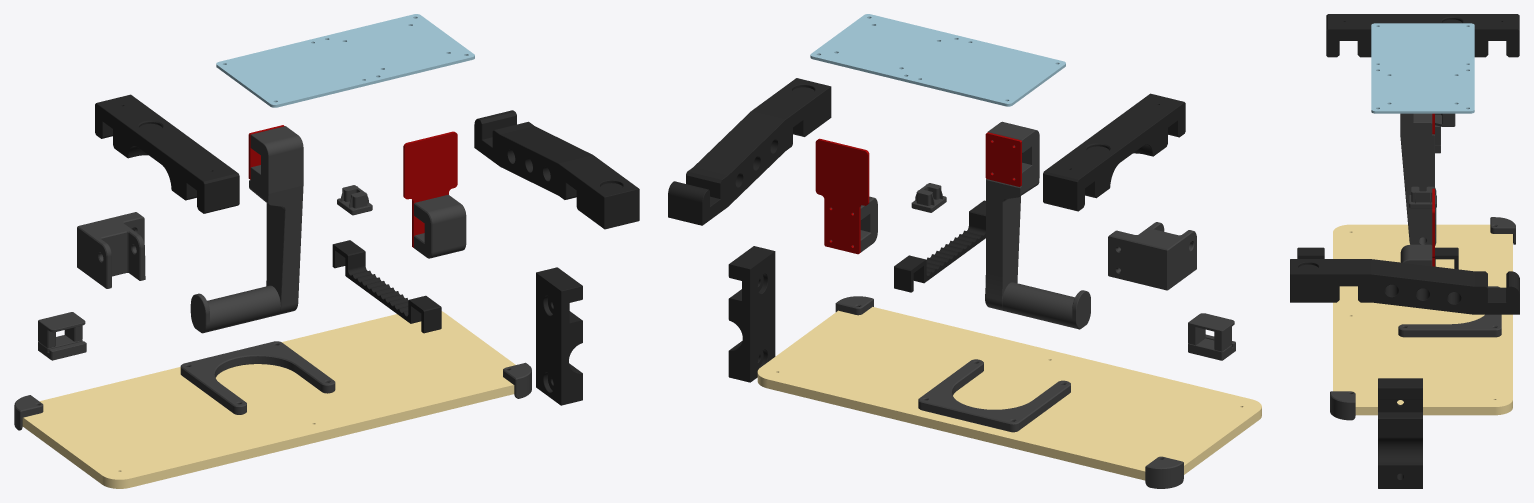
File: ferme_3d.glb
The picture shows the model from 3 angles, left to right: view 1: azimuth 30°, elevation 25°; view 2: azimuth 150°, elevation 25°; view 3: azimuth 270°, elevation 25°; orthographic projection. The views are drawn at different scales.
Parts seen in each view (by area): view 1: SupportClavier, AdaptationDoubleVesa, SupportSidewinder, SupportGenius, Bras, ClampPiedEcran, WallSpacer, RearPlateKeyboard, Etiquette, SupportCable, AxeBobine, ClampEtiquette (+4 smaller); view 2: SupportClavier, AdaptationDoubleVesa, SupportSidewinder, SupportGenius, Bras, ClampPiedEcran, Etiquette, WallSpacer, RearPlateKeyboard, AxeBobine, SupportCable, CacheFront (+5 smaller); view 3: SupportClavier, SupportSidewinder, AdaptationDoubleVesa, ClampPiedEcran, SupportGenius, Bras, RearPlateKeyboard, CoinClavier, SupportCable, ClampEtiquette, PiedProfile, WallSpacer.
Part boxes in pixels (box(x1,y1,x2,y2)): SupportClavier: box(22, 311, 515, 488); AdaptationDoubleVesa: box(216, 14, 474, 107); SupportSidewinder: box(474, 110, 639, 229); SupportGenius: box(95, 94, 239, 213); Bras: box(249, 126, 303, 314); ClampPiedEcran: box(536, 267, 582, 405); WallSpacer: box(77, 212, 145, 288); RearPlateKeyboard: box(180, 341, 335, 414); Etiquette: box(403, 131, 457, 247); SupportCable: box(332, 240, 441, 333); AxeBobine: box(190, 285, 280, 333); ClampEtiquette: box(414, 194, 466, 258); SupportClavier: box(757, 307, 1261, 480); AdaptationDoubleVesa: box(810, 14, 1065, 106); SupportSidewinder: box(668, 78, 831, 225); SupportGenius: box(1043, 93, 1185, 211); Bras: box(985, 121, 1039, 311); ClampPiedEcran: box(728, 246, 775, 382); Etiquette: box(815, 138, 869, 254); WallSpacer: box(1108, 222, 1196, 290); RearPlateKeyboard: box(918, 359, 1070, 432); AxeBobine: box(1002, 282, 1090, 329); SupportCable: box(894, 200, 985, 292); CacheFront: box(985, 132, 1021, 186); SupportClavier: box(1333, 224, 1512, 415); SupportSidewinder: box(1290, 259, 1519, 314); AdaptationDoubleVesa: box(1371, 23, 1474, 113); ClampPiedEcran: box(1378, 378, 1422, 488); SupportGenius: box(1326, 14, 1519, 57); Bras: box(1400, 113, 1436, 245); RearPlateKeyboard: box(1398, 286, 1501, 337); CoinClavier: box(1330, 391, 1355, 420); SupportCable: box(1297, 247, 1458, 269); ClampEtiquette: box(1400, 244, 1432, 266); PiedProfile: box(1409, 186, 1436, 208); WallSpacer: box(1435, 113, 1455, 126).
Bounding box in the file's own units: 0.5855 × 0.4051 × 0.2555.
